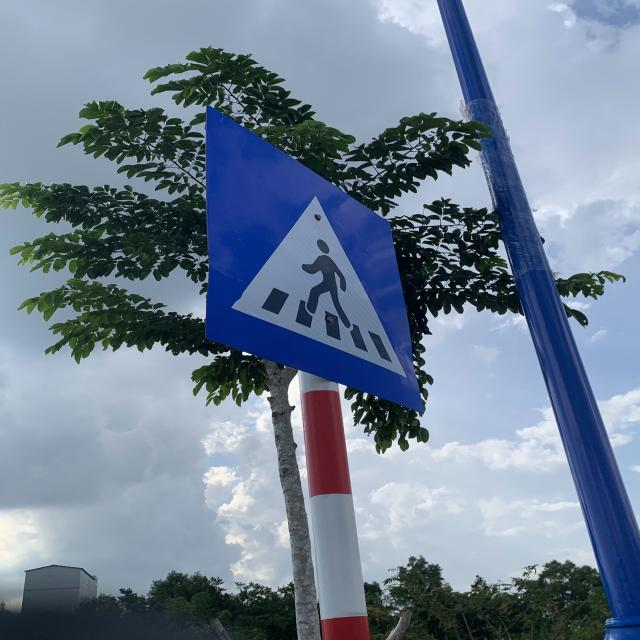Giao_Nhau_Duong_Uu_Tien: (203, 106, 427, 410)
